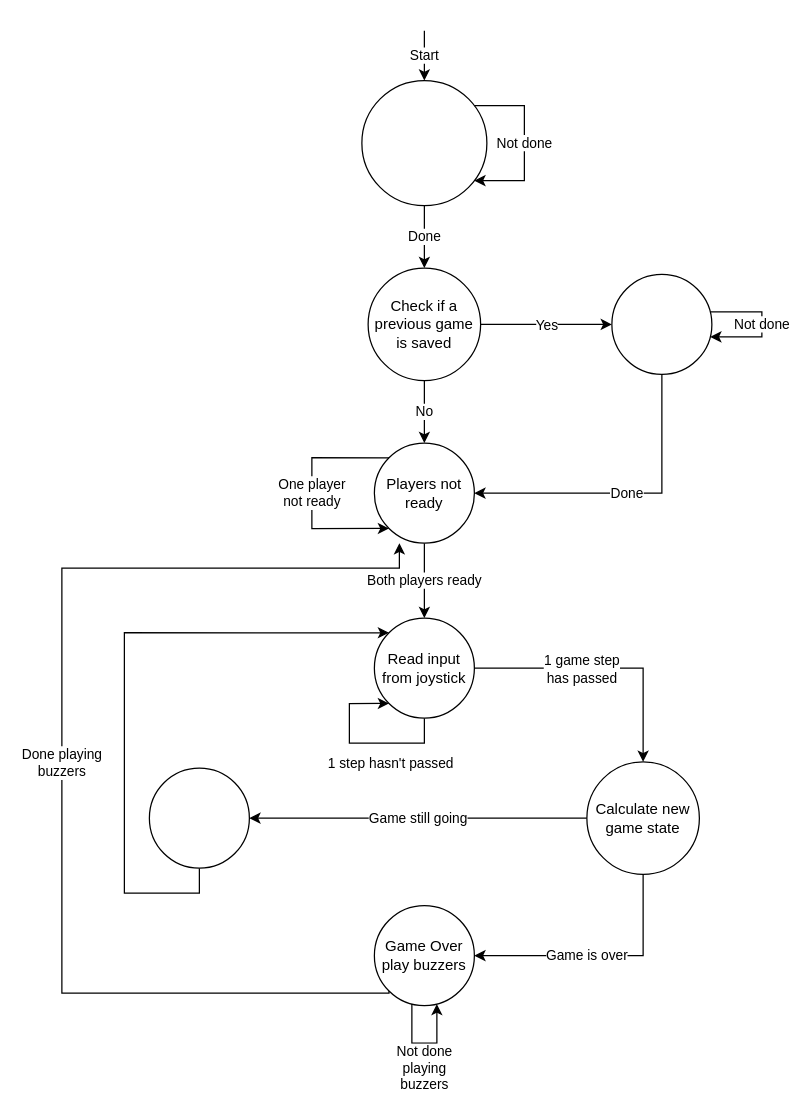
The diagram is 811 pixels wide and 1115 high, and some of its shapes have lost their labels. The shapes that lost their labels are listed below. From the top down, each one's centre as x and y in pixels, then its label:
At pixel 424 142: "Initialize game vars and led matrices".
At pixel 661 323: "Load Game".
At pixel 198 817: "Print game grid to led matrices".
